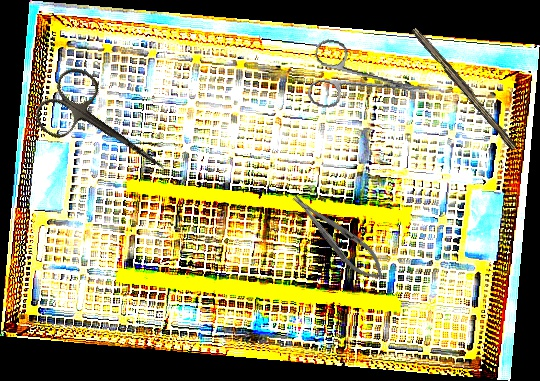Iris Scissors: (29, 60, 184, 200), (305, 37, 434, 127)
Needle Holder: (284, 185, 393, 289)
Scalpel Handle: (409, 25, 521, 151)
